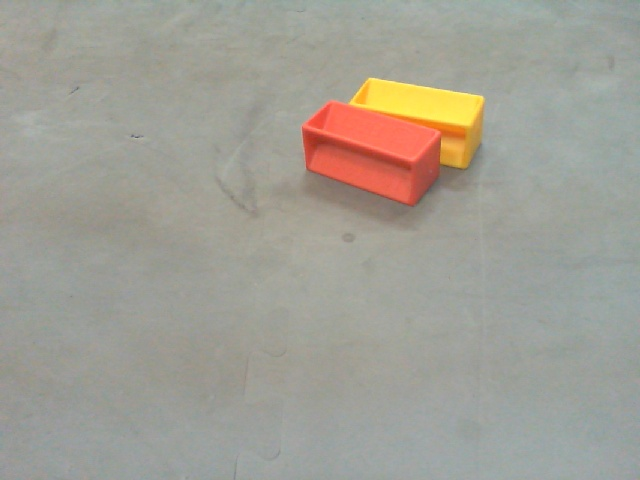RedSample: (301, 102, 442, 203)
YellowSample: (346, 75, 487, 172)
